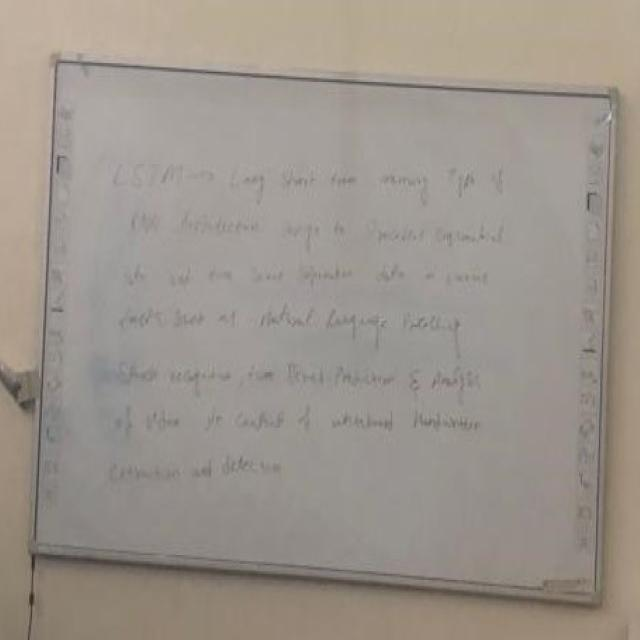White-board: (37, 52, 616, 600)
